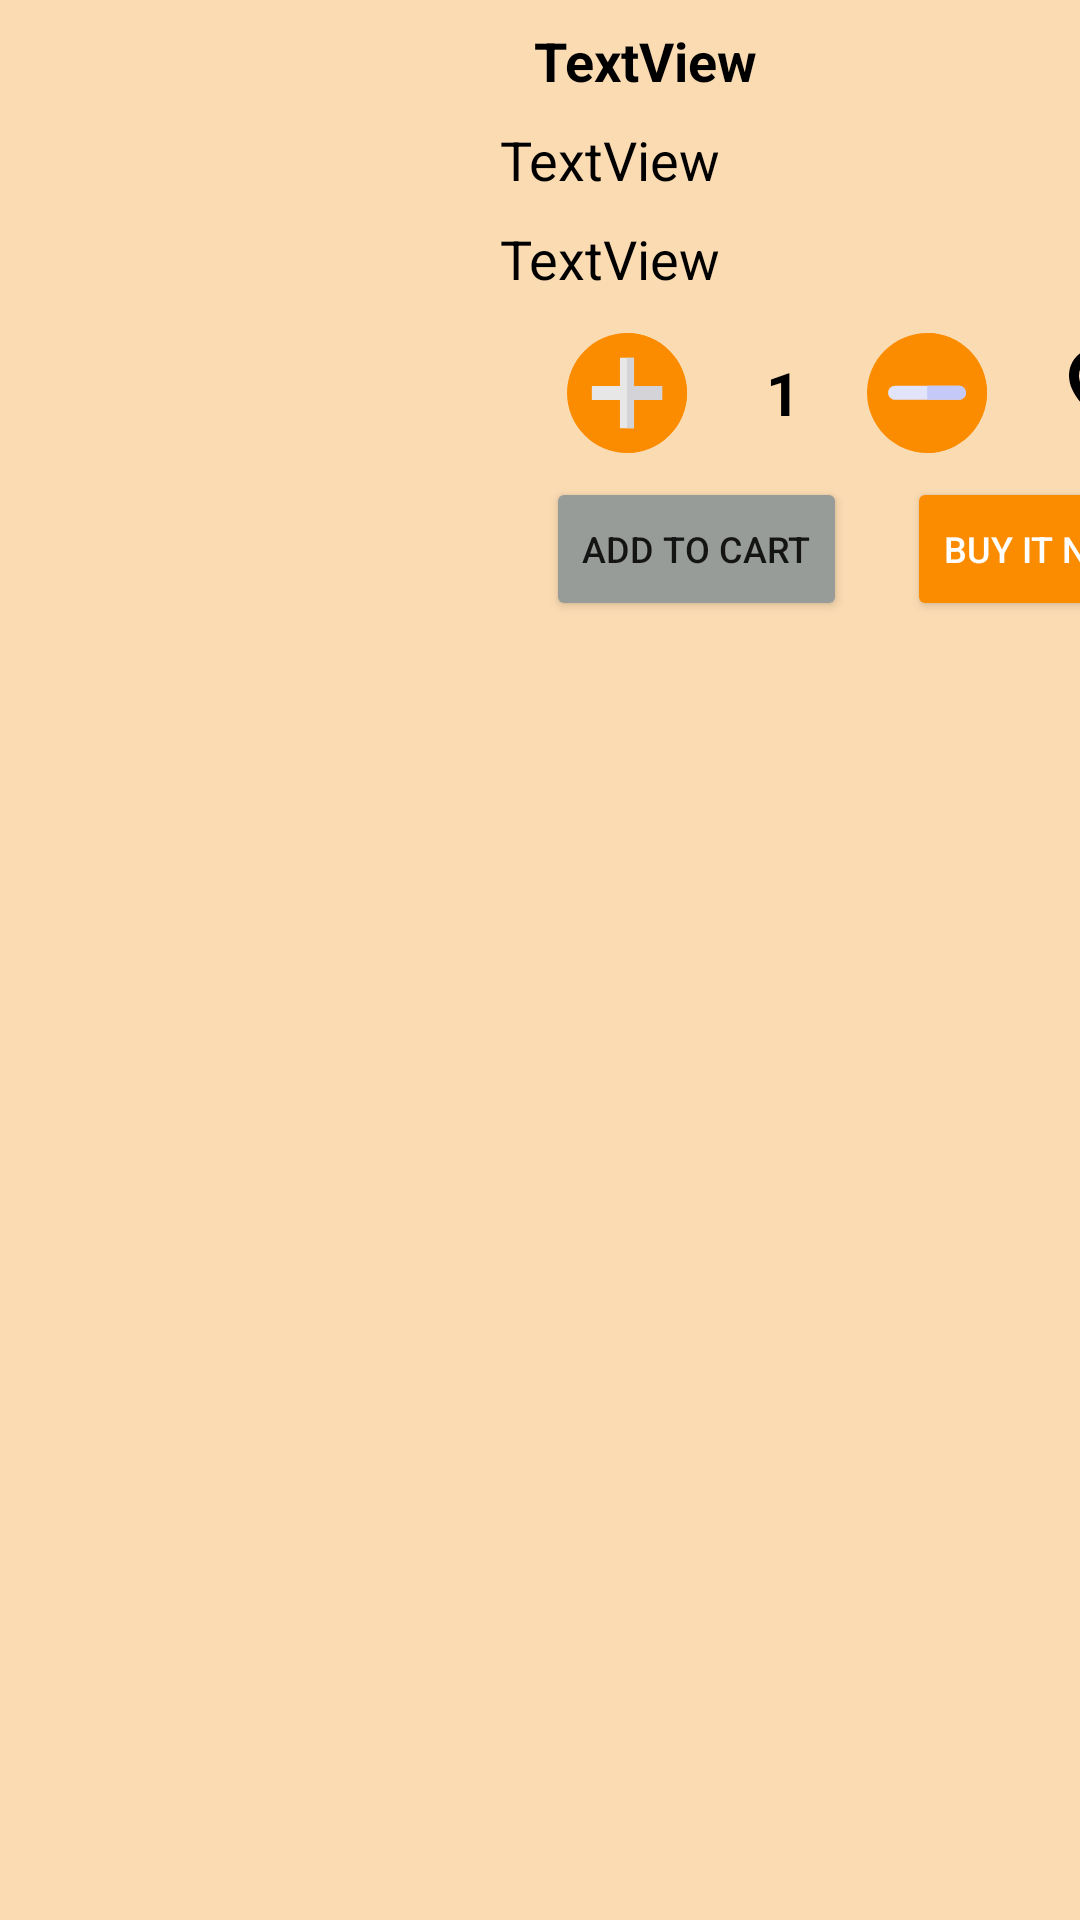

Where icons sit on this 1080 × 1920 app screen, as (x1, y1, x2, y2):
minus: (867, 333, 987, 453)
plus: (567, 333, 687, 453)
